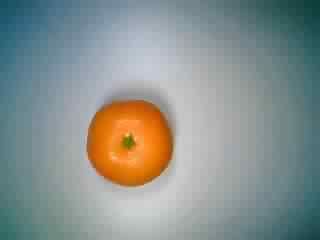orange: (82, 92, 176, 191)
